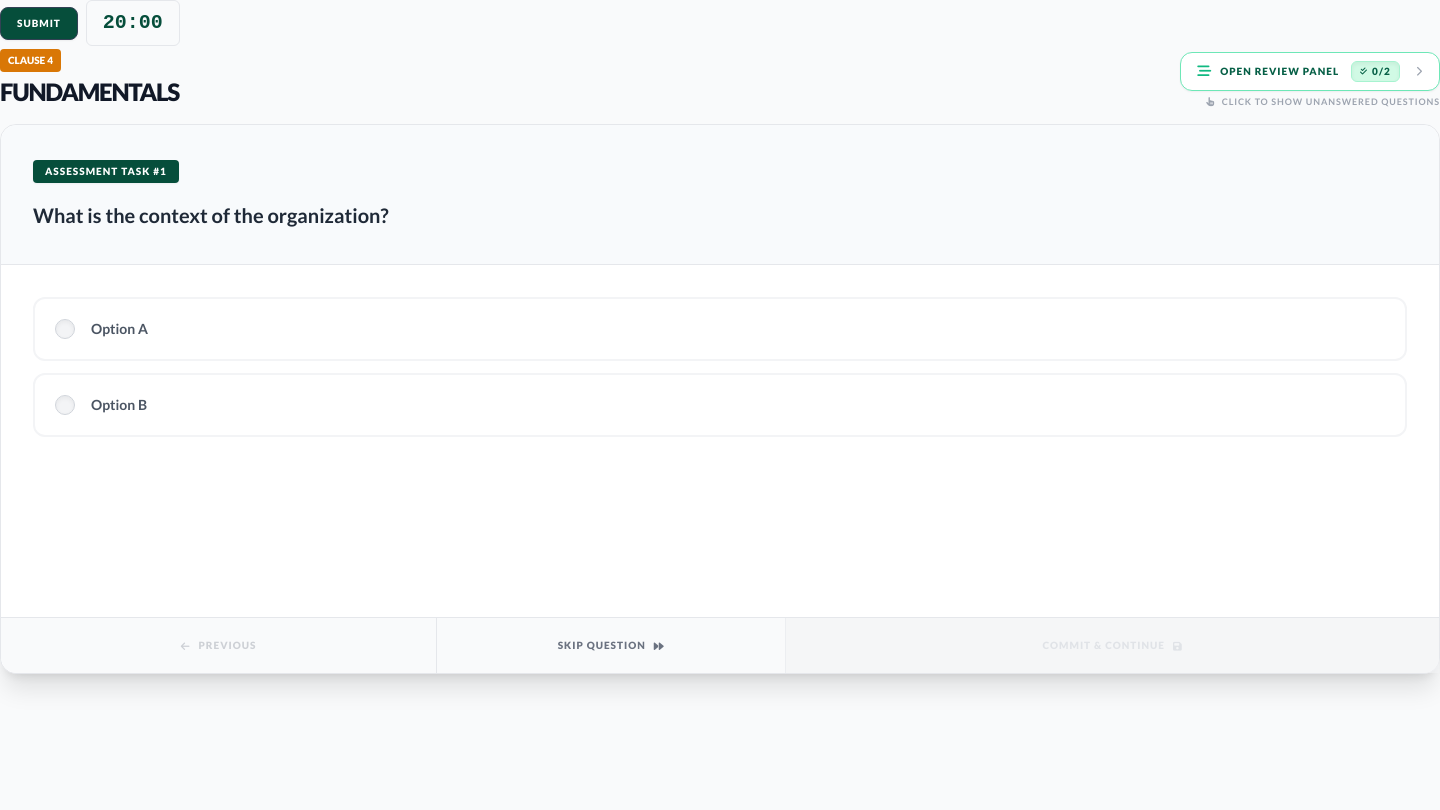
Test: QuizEngine Component - Standard User Flows › opens the review drawer and shows correct completion statuses
Click the button "Option A" at [119, 328], box [33,296,1407,360]
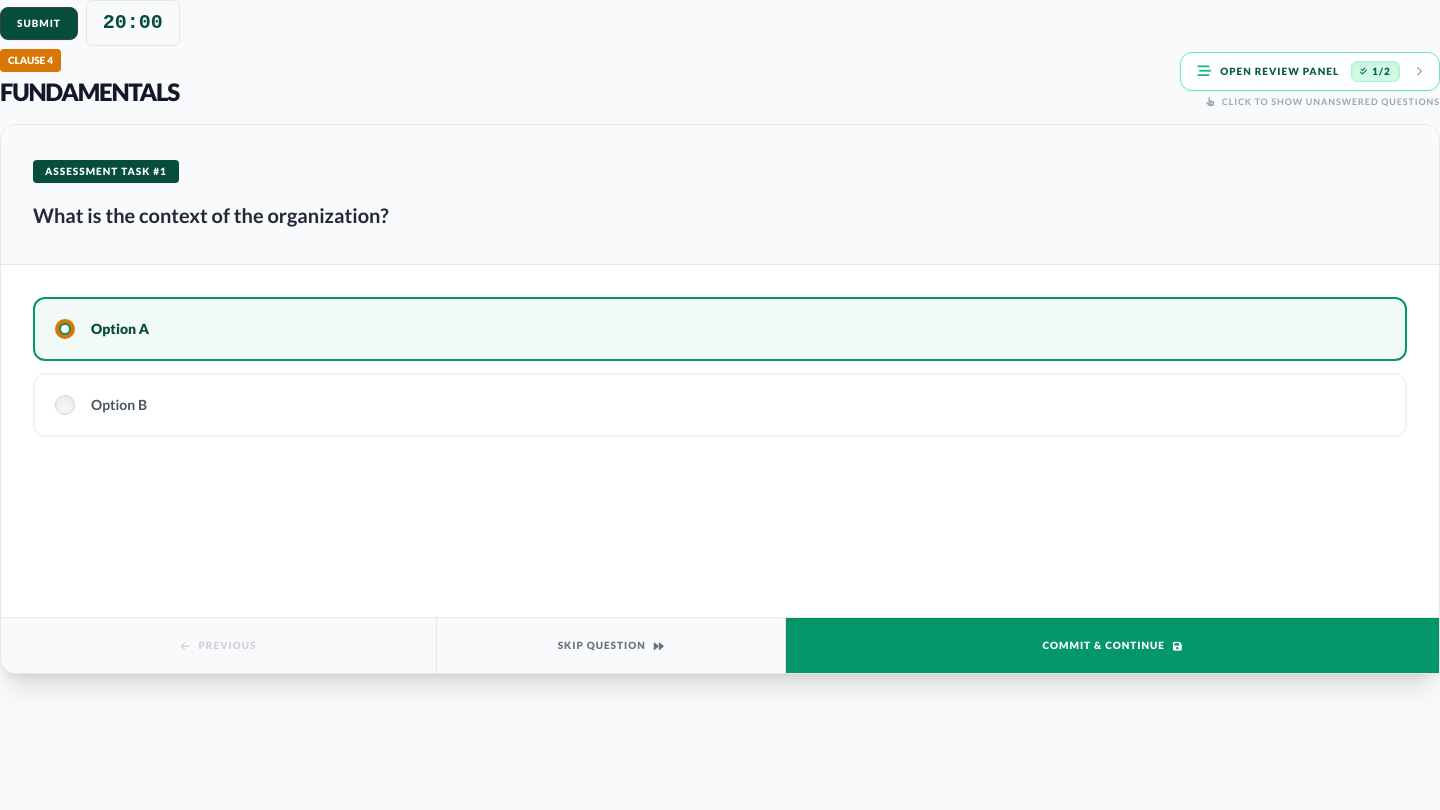
Click the text "Open Review Panel" at [1280, 71], box [1220,64,1339,78]
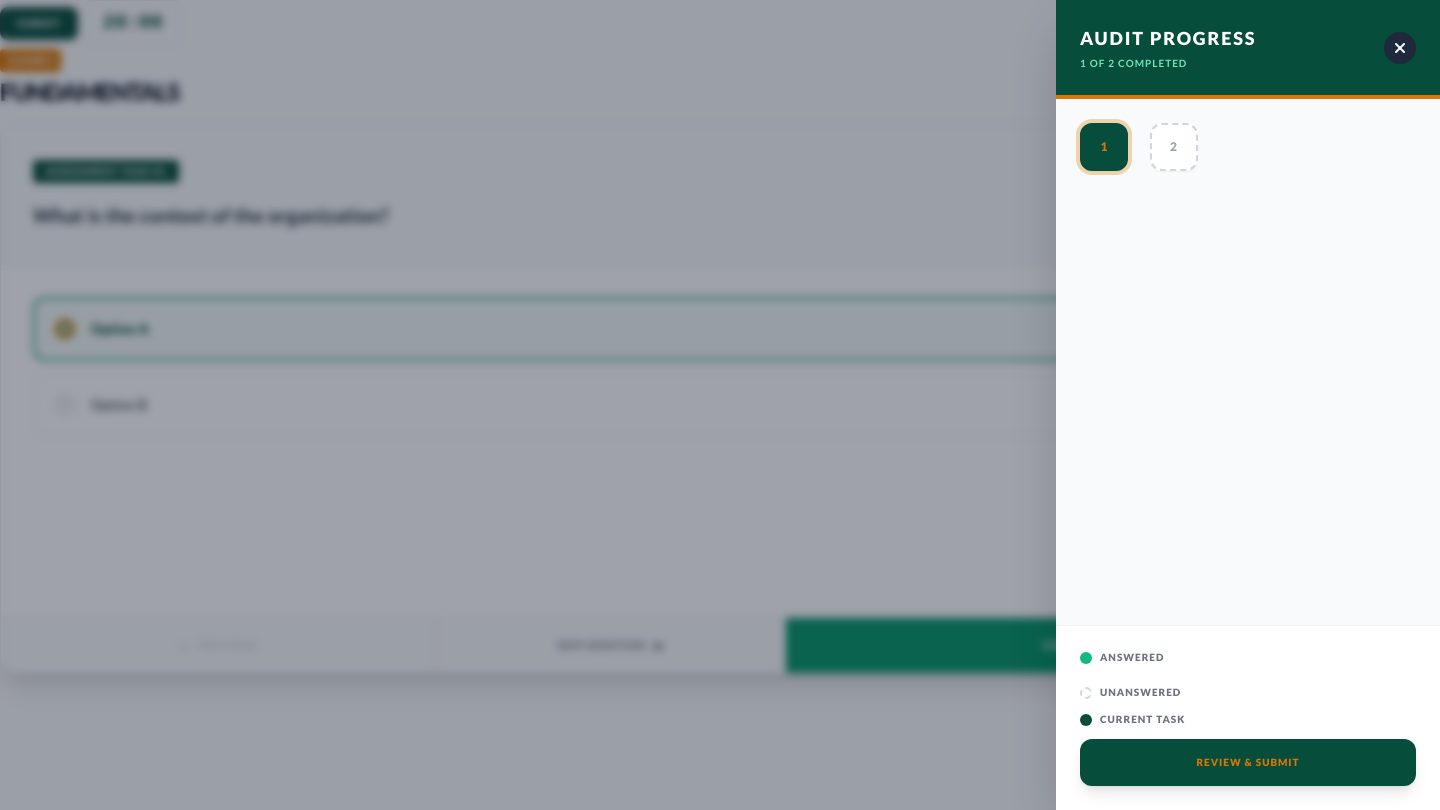
expect the heading "Audit Progress" is shown: met, box [1080,24,1256,52]
expect the text "1 of 2 Completed" is shown: met, box [1080,57,1187,69]
expect the number of buttons "1" is 2: met, box [1080,123,1128,171]; [1150,123,1198,171]
